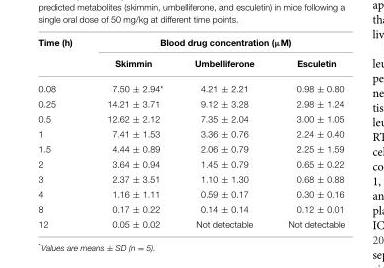table: (37, 37, 344, 228)
table column: (178, 37, 270, 228), (89, 37, 178, 228), (270, 37, 344, 228), (37, 37, 89, 228)
table column header: (37, 37, 344, 76)
table row: (37, 52, 344, 76), (37, 76, 344, 96), (37, 37, 344, 52), (37, 96, 344, 111), (37, 111, 344, 126), (37, 126, 344, 141), (37, 141, 344, 156), (37, 156, 344, 171), (37, 171, 344, 186), (37, 186, 344, 201), (37, 201, 344, 216), (37, 216, 344, 228)
table spanning cell: (89, 37, 344, 52), (37, 37, 89, 76)
